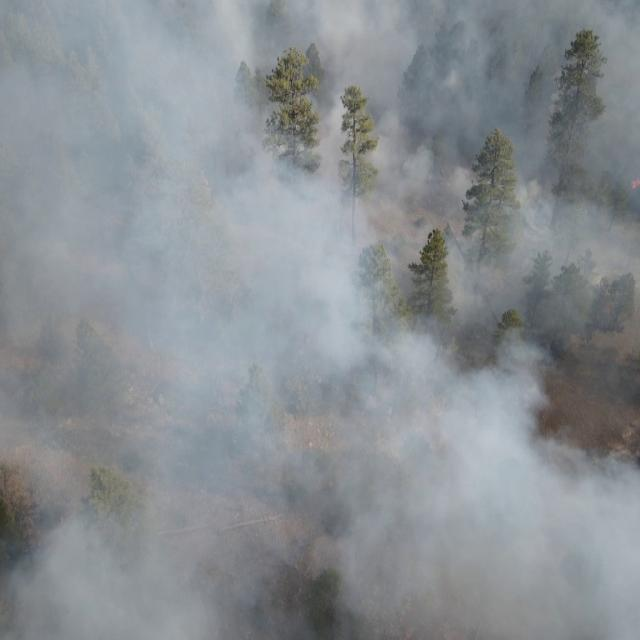fire: (631, 176, 640, 194)
smoke: (0, 0, 640, 640)
